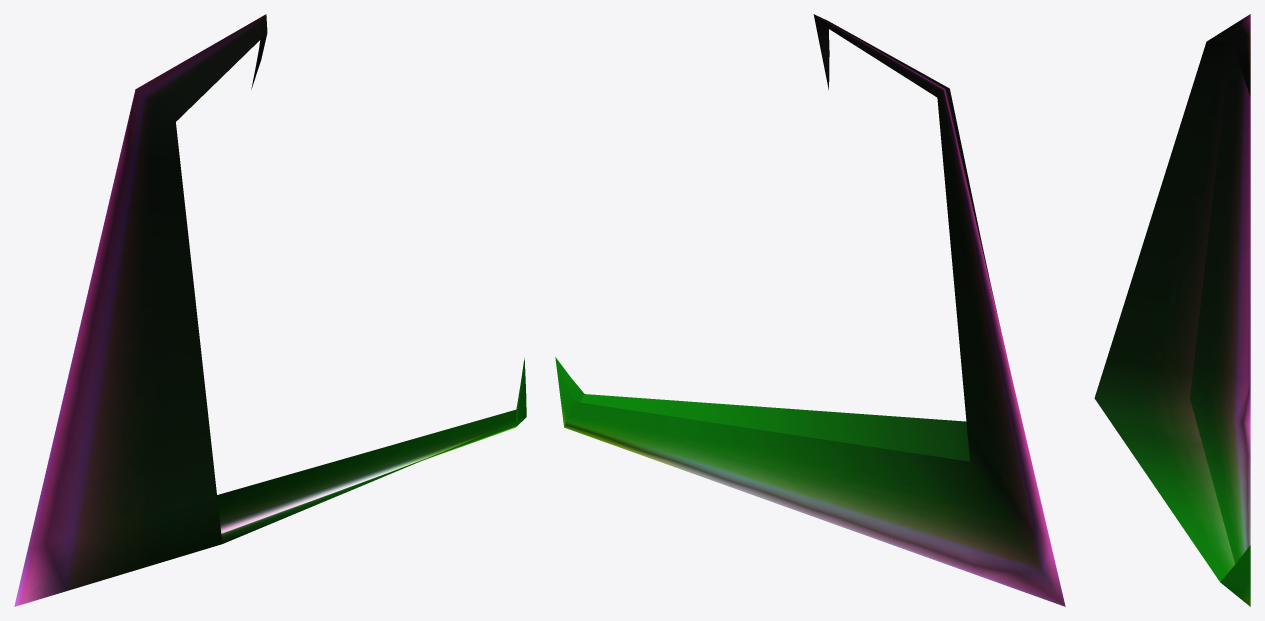
File: Trail7_6.fbx
The picture shows the model from 3 angles, left to right: view 1: azimuth 30°, elevation 25°; view 2: azimuth 150°, elevation 25°; view 3: azimuth 270°, elevation 25°; orthographic projection. The views are drawn at different scales.
Visible parts, largest first — view 1: Eff_Model_Shougun_07_6; view 2: Eff_Model_Shougun_07_6; view 3: Eff_Model_Shougun_07_6.
Boxes of the visible parts, bbox=[...] form: Eff_Model_Shougun_07_6: bbox=[14, 14, 526, 606]; Eff_Model_Shougun_07_6: bbox=[555, 14, 1065, 606]; Eff_Model_Shougun_07_6: bbox=[1094, 14, 1250, 606].
Bounding box in the file's own units: 220 × 219 × 60.5.
